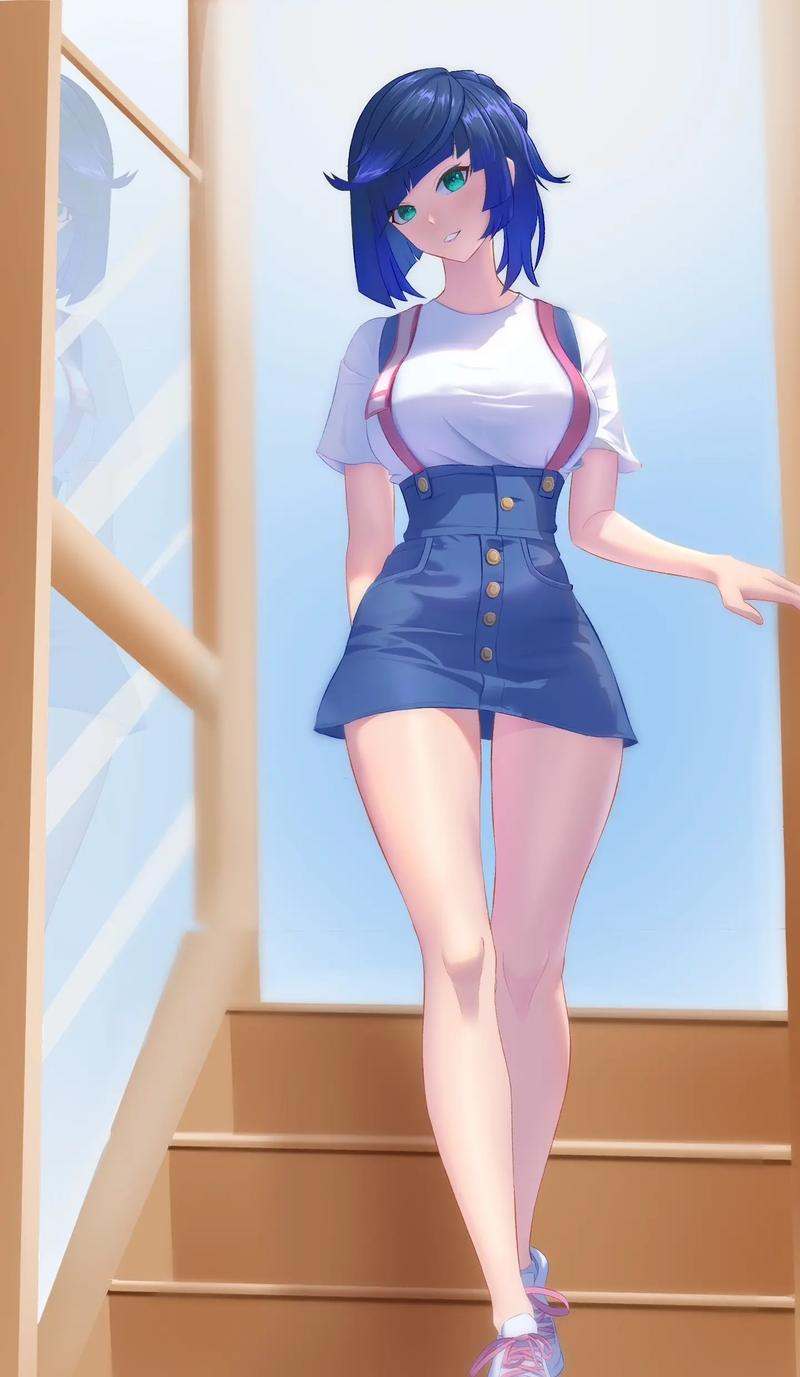夜兰: (309, 70, 795, 1366)
